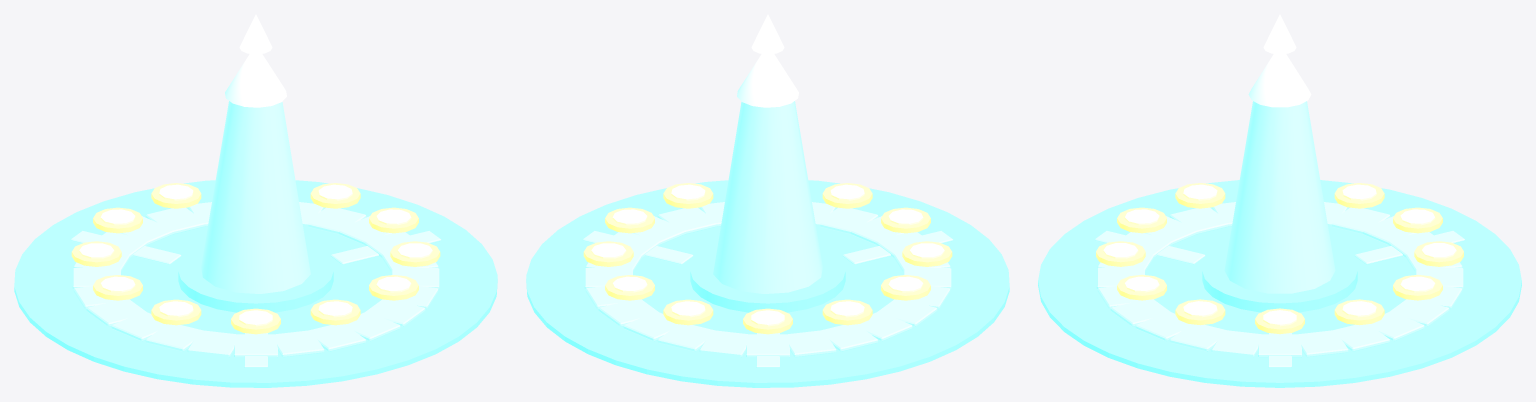
File: marker_coin_ring.glb
3 renders of one model, left to right at view 1: azimuth 30°, elevation 25°; view 2: azimuth 150°, elevation 25°; view 3: azimuth 270°, elevation 25°, orthographic.
Visible parts, largest first — view 1: marker_coin_ring_plate, marker_coin_ring_band, marker_coin_ring_mast, marker_coin_ring_hub, marker_coin_ring_beacon, marker_coin_ring_chevrons, marker_coin_ring_finial, marker_coin_ring_coin_rim_5, marker_coin_ring_coin_rim_11, marker_coin_ring_coin_rim_7, marker_coin_ring_coin_rim_8, marker_coin_ring_coin_rim_9 (+17 smaller); view 2: marker_coin_ring_plate, marker_coin_ring_band, marker_coin_ring_mast, marker_coin_ring_hub, marker_coin_ring_beacon, marker_coin_ring_chevrons, marker_coin_ring_finial, marker_coin_ring_coin_rim_1, marker_coin_ring_coin_rim_7, marker_coin_ring_coin_rim_3, marker_coin_ring_coin_rim_4, marker_coin_ring_coin_rim_5 (+17 smaller); view 3: marker_coin_ring_plate, marker_coin_ring_band, marker_coin_ring_mast, marker_coin_ring_hub, marker_coin_ring_beacon, marker_coin_ring_chevrons, marker_coin_ring_finial, marker_coin_ring_coin_rim_0, marker_coin_ring_coin_rim_1, marker_coin_ring_coin_rim_5, marker_coin_ring_coin_rim_7, marker_coin_ring_coin_rim_11 (+17 smaller).
Boxes of the visible parts, <box> form: marker_coin_ring_plate: <box>14,180,497,387</box>; marker_coin_ring_band: <box>72,202,439,357</box>; marker_coin_ring_mast: <box>201,101,310,293</box>; marker_coin_ring_hub: <box>178,246,333,312</box>; marker_coin_ring_beacon: <box>225,54,286,107</box>; marker_coin_ring_chevrons: <box>70,231,441,367</box>; marker_coin_ring_finial: <box>239,14,272,54</box>; marker_coin_ring_coin_rim_5: <box>71,241,121,266</box>; marker_coin_ring_coin_rim_11: <box>390,241,440,266</box>; marker_coin_ring_coin_rim_7: <box>151,299,201,325</box>; marker_coin_ring_coin_rim_8: <box>231,308,280,334</box>; marker_coin_ring_coin_rim_9: <box>310,299,360,325</box>; marker_coin_ring_plate: <box>526,180,1009,387</box>; marker_coin_ring_band: <box>584,202,951,357</box>; marker_coin_ring_mast: <box>713,101,822,293</box>; marker_coin_ring_hub: <box>690,246,845,312</box>; marker_coin_ring_beacon: <box>737,54,798,107</box>; marker_coin_ring_chevrons: <box>582,231,953,367</box>; marker_coin_ring_finial: <box>751,14,784,54</box>; marker_coin_ring_coin_rim_1: <box>583,241,633,266</box>; marker_coin_ring_coin_rim_7: <box>902,241,952,266</box>; marker_coin_ring_coin_rim_3: <box>663,299,713,325</box>; marker_coin_ring_coin_rim_4: <box>743,308,792,334</box>; marker_coin_ring_coin_rim_5: <box>822,299,872,325</box>; marker_coin_ring_plate: <box>1038,180,1521,387</box>; marker_coin_ring_band: <box>1096,202,1463,357</box>; marker_coin_ring_mast: <box>1224,101,1335,293</box>; marker_coin_ring_hub: <box>1202,246,1357,312</box>; marker_coin_ring_beacon: <box>1248,54,1311,107</box>; marker_coin_ring_chevrons: <box>1095,231,1464,367</box>; marker_coin_ring_finial: <box>1263,14,1296,54</box>; marker_coin_ring_coin_rim_0: <box>1255,308,1304,334</box>; marker_coin_ring_coin_rim_1: <box>1334,299,1384,325</box>; marker_coin_ring_coin_rim_5: <box>1334,183,1384,208</box>; marker_coin_ring_coin_rim_7: <box>1175,183,1225,208</box>; marker_coin_ring_coin_rim_11: <box>1175,299,1225,325</box>.
Size of the model in its own units: 2.61 by 1.62 by 2.61.
